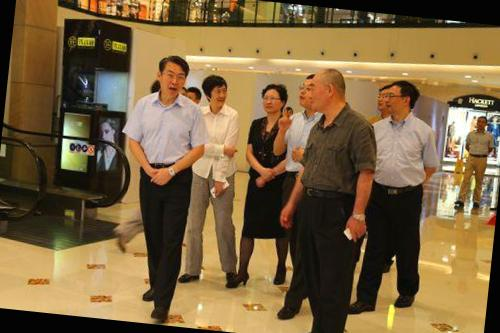no_helmet: (302, 68, 346, 118), (154, 50, 192, 99), (379, 78, 422, 119), (201, 72, 233, 109), (257, 80, 288, 118), (297, 72, 319, 112), (474, 112, 491, 132)
